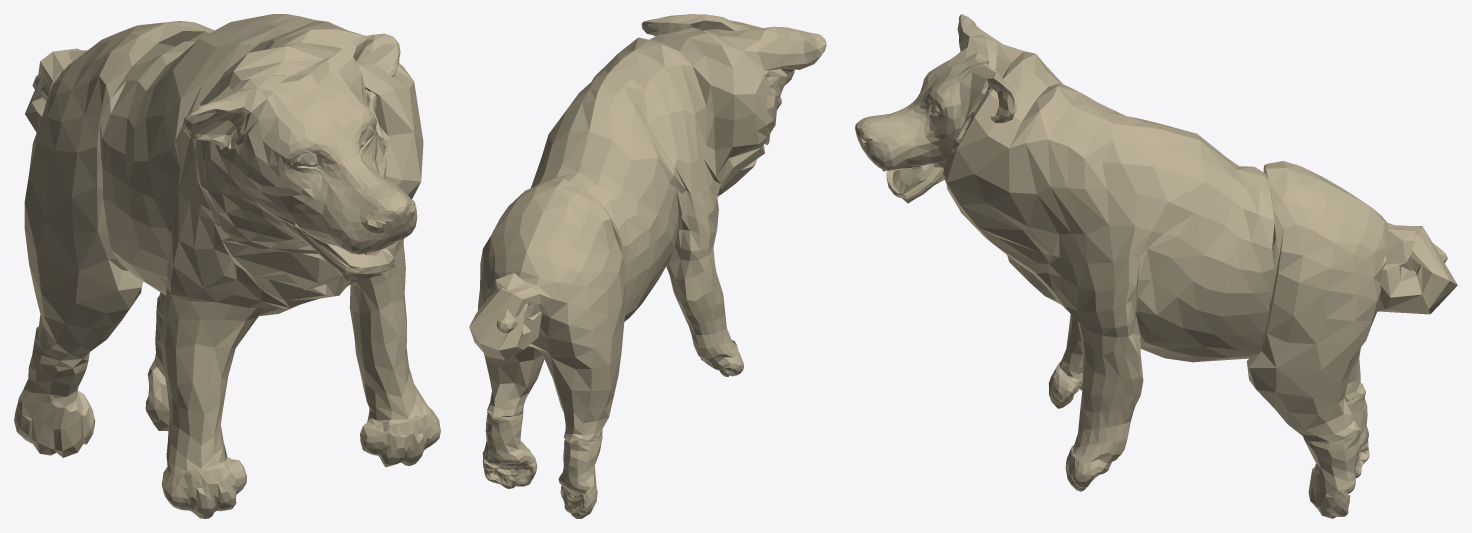
The picture shows the model from 3 angles, left to right: view 1: azimuth 30°, elevation 25°; view 2: azimuth 150°, elevation 25°; view 3: azimuth 270°, elevation 25°; orthographic projection. The views are drawn at different scales.
Parts seen in each view (by area): view 1: world; view 2: world; view 3: world.
Part boxes in pixels (box(x1,y1,x2,y2)): world: box(14, 14, 440, 518); world: box(469, 14, 826, 518); world: box(855, 14, 1457, 518).
Size of the model in its own units: 0.5344 by 0.8738 by 1.11.
